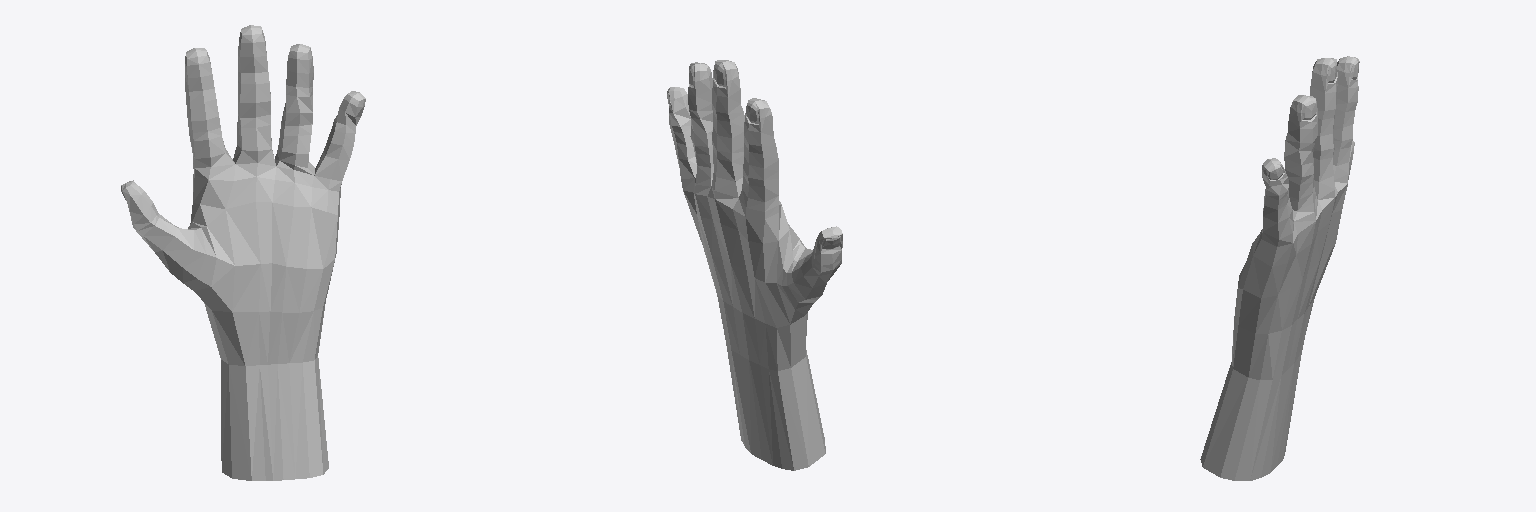
File: handAnimated4_000096.obj
3 renders of one model, left to right at view 1: azimuth 30°, elevation 25°; view 2: azimuth 150°, elevation 25°; view 3: azimuth 270°, elevation 25°, orthographic.
Parts seen in each view (by area): view 1: Cube.000_Cube.017_Detached_Detached; view 2: Cube.000_Cube.017_Detached_Detached; view 3: Cube.000_Cube.017_Detached_Detached.
Part boxes in pixels (bbox=[...]): Cube.000_Cube.017_Detached_Detached: bbox=[121, 25, 365, 480]; Cube.000_Cube.017_Detached_Detached: bbox=[667, 60, 842, 470]; Cube.000_Cube.017_Detached_Detached: bbox=[1200, 56, 1359, 480].
Bounding box in the file's own units: 0.7008 × 1.33 × 0.4631.